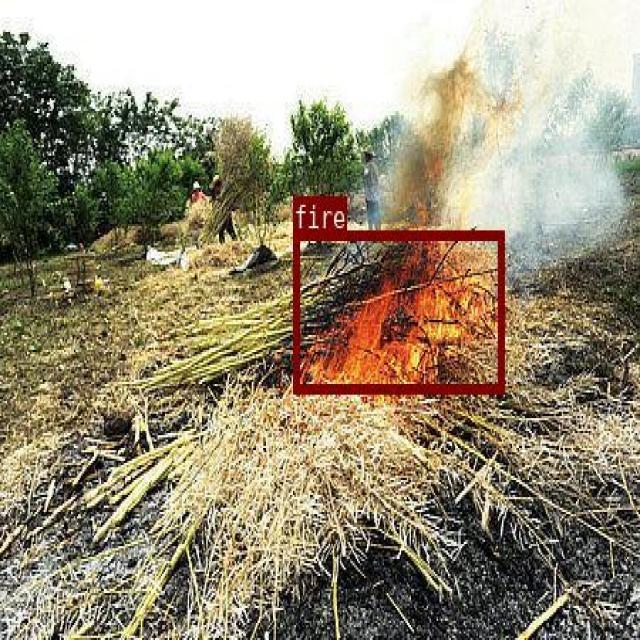fire: (292, 229, 503, 391)
